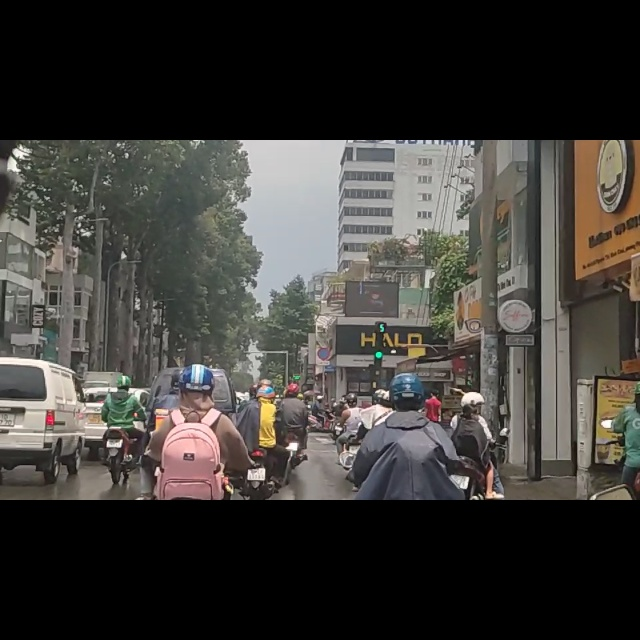bien_cam: (316, 366, 332, 393)
